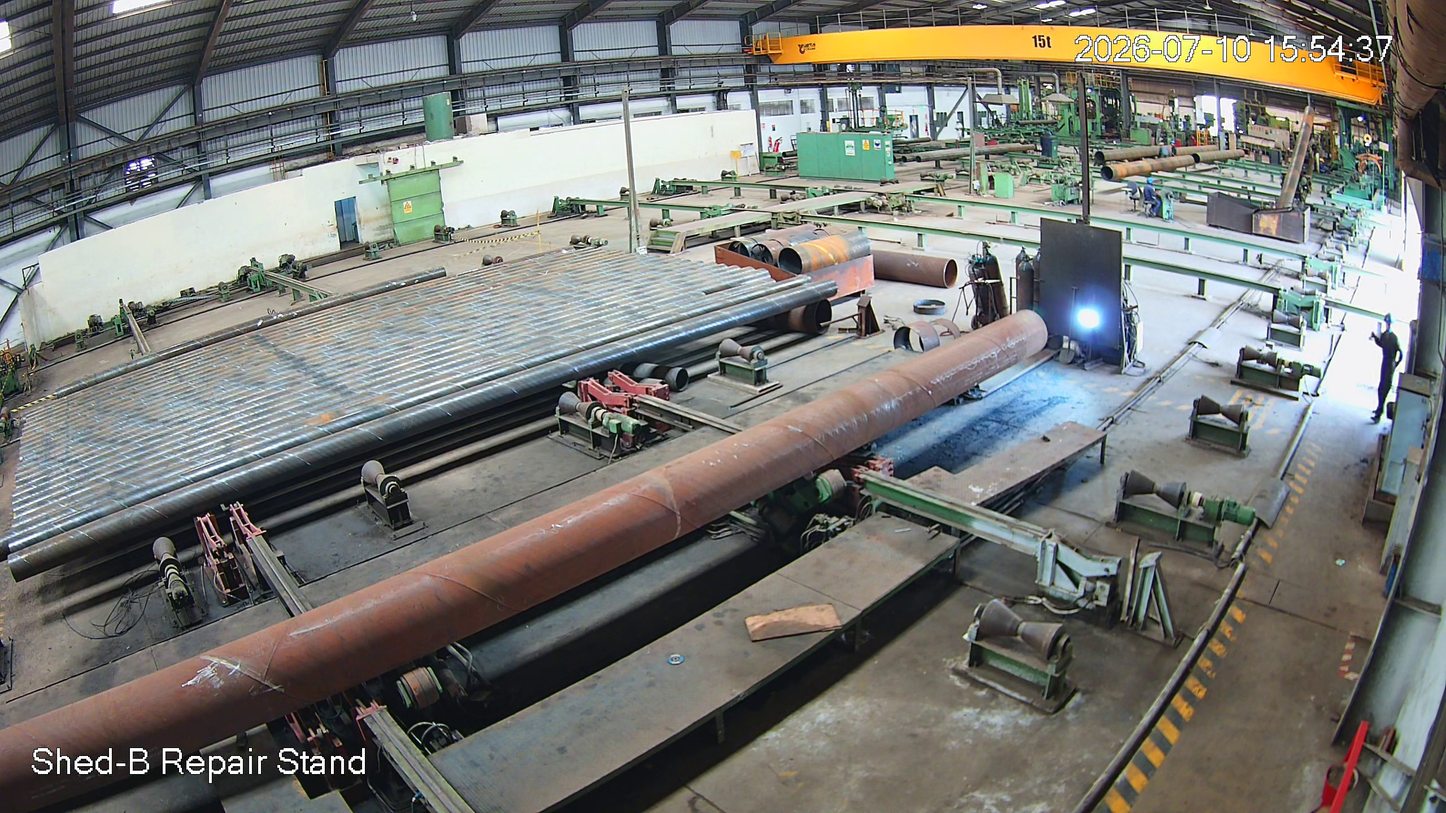Helmet: (1379, 306, 1409, 341)
Person: (1372, 312, 1403, 430)
